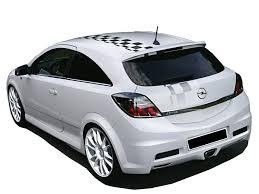opel: (192, 86, 214, 105)
